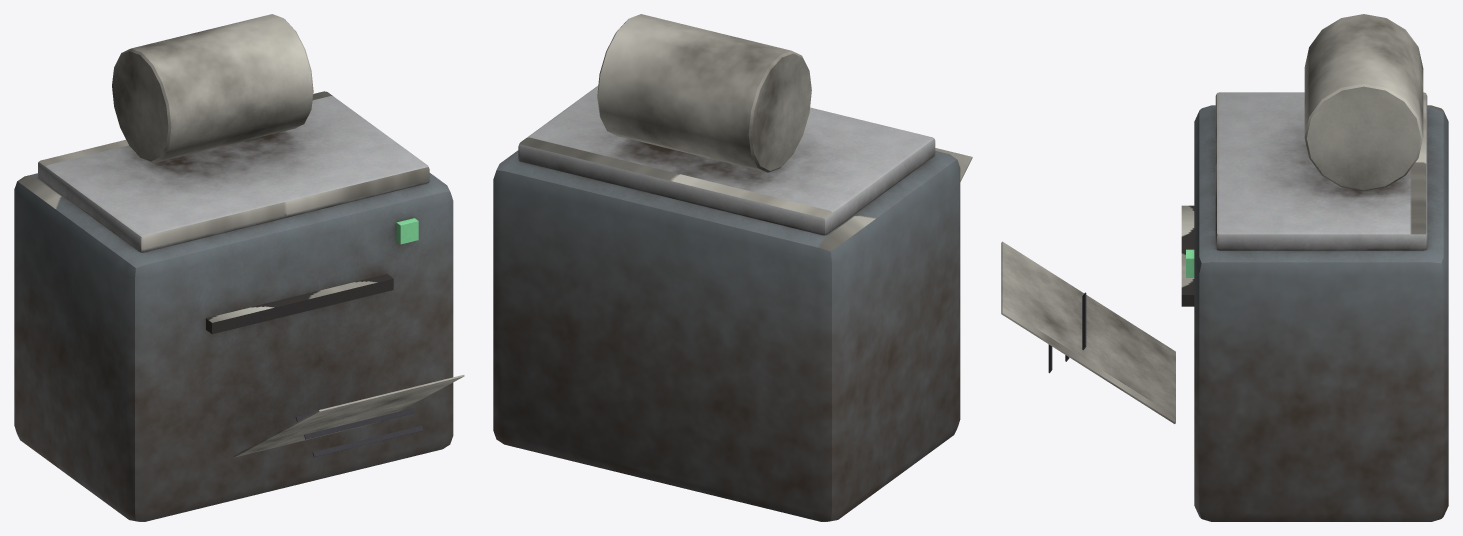
File: g67_pz_receipt_printer.glb
3 views of the same model, side by side, from view 1: azimuth 30°, elevation 25°; view 2: azimuth 150°, elevation 25°; view 3: azimuth 270°, elevation 25° (orthographic). The views are drawn at different scales.
Visible parts, largest first — view 1: g67_pz_receipt_printer, receipt_roll; view 2: g67_pz_receipt_printer, receipt_roll; view 3: g67_pz_receipt_printer, receipt_roll.
Part boxes in pixels (left/top/right/bottom): g67_pz_receipt_printer: left=14, top=91, right=464, bottom=521; receipt_roll: left=112, top=14, right=313, bottom=163; g67_pz_receipt_printer: left=493, top=85, right=972, bottom=521; receipt_roll: left=597, top=14, right=811, bottom=172; g67_pz_receipt_printer: left=1001, top=92, right=1448, bottom=521; receipt_roll: left=1304, top=14, right=1423, bottom=191.
Size of the model in its own units: 0.9 by 1.04 by 1.06.
Materials: 1 (1 with a texture image).
